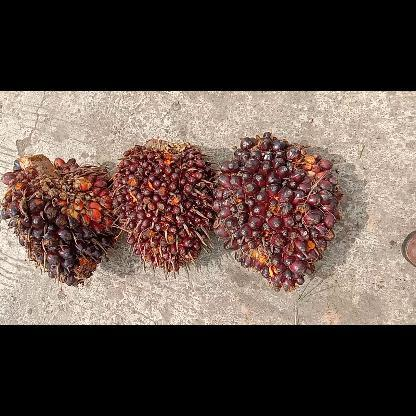Kurang masak: (215, 124, 347, 290), (113, 140, 212, 274)
TBS masak: (0, 154, 111, 286)
